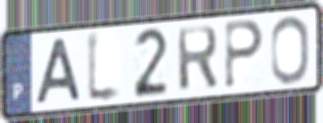2: (132, 25, 172, 102)
A: (33, 35, 84, 107)
L: (85, 27, 125, 108)
O: (269, 14, 311, 87)
P: (223, 18, 266, 91)
R: (175, 23, 220, 94)
